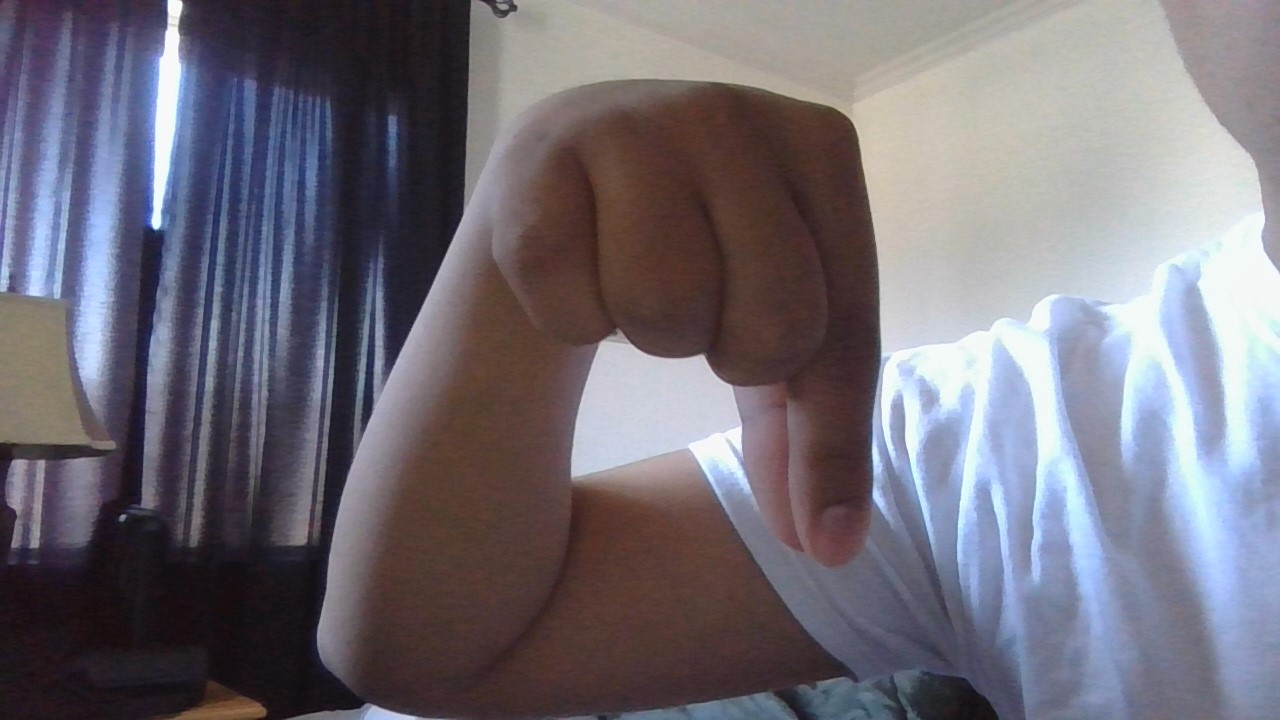q: (421, 57, 951, 579)
